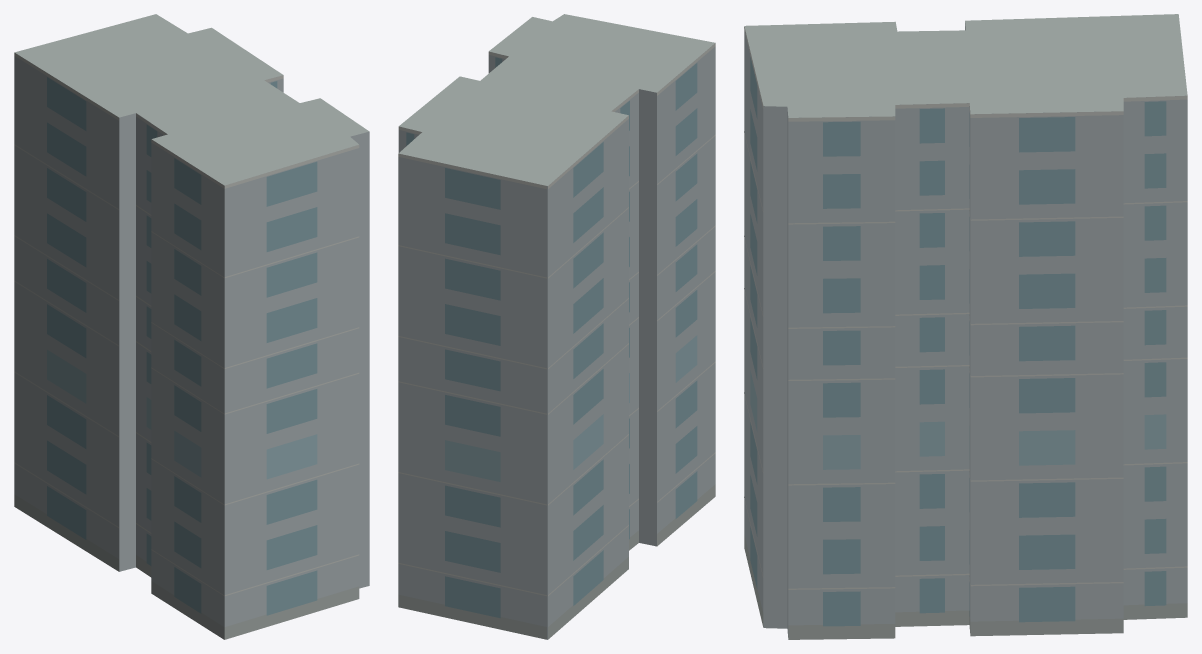
Rendered from survey-upis-32744889.glb.
The picture shows the model from 3 angles, left to right: view 1: azimuth 30°, elevation 25°; view 2: azimuth 150°, elevation 25°; view 3: azimuth 270°, elevation 25°; orthographic projection. The views are drawn at different scales.
Parts seen in each view (by area): view 1: survey-upis-32744889.tmp; view 2: survey-upis-32744889.tmp; view 3: survey-upis-32744889.tmp.
Boxes of the visible parts, box(x1,y1,x2,y2) form: survey-upis-32744889.tmp: box(14, 14, 369, 639); survey-upis-32744889.tmp: box(398, 14, 715, 639); survey-upis-32744889.tmp: box(744, 14, 1187, 639).
Size of the model in its own units: 14.2 by 33.2 by 25.58.
